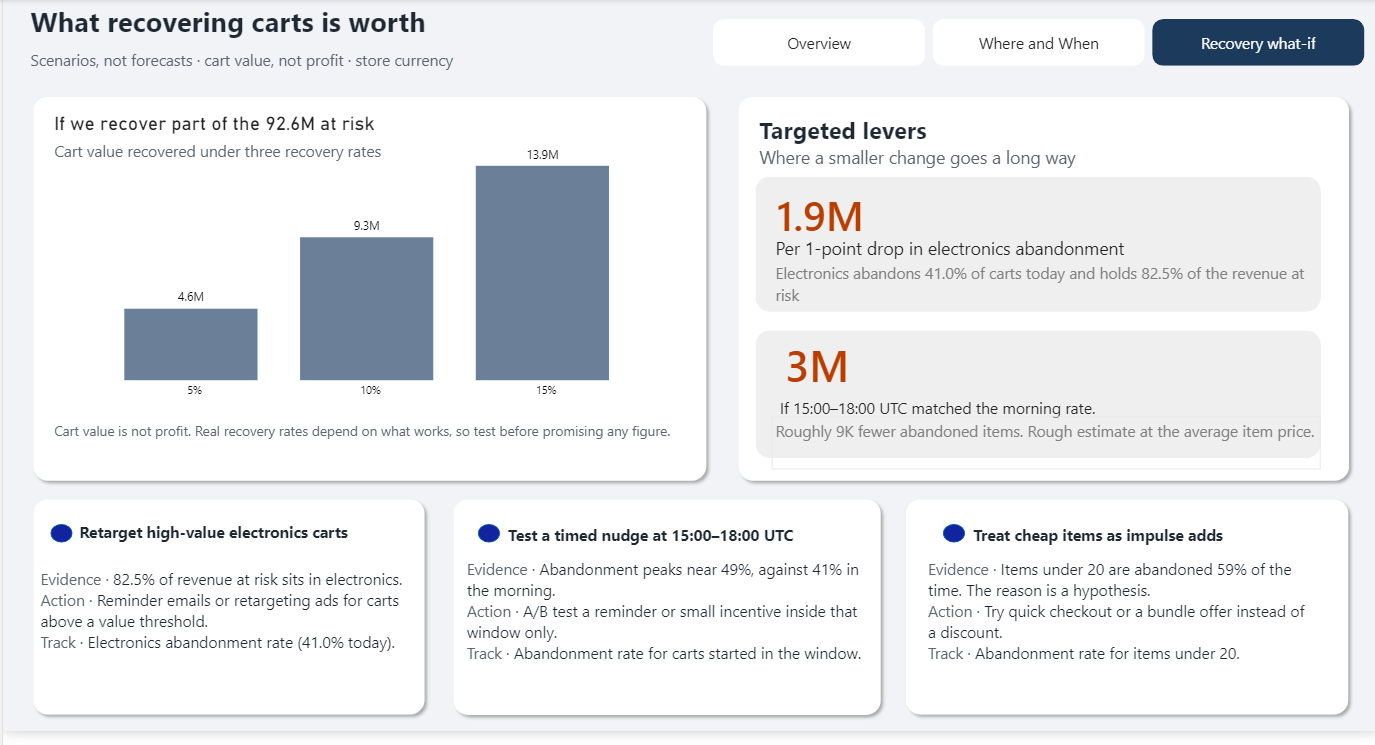

This screenshot's page, from the dashboard's own definition file:
{"tool":"powerbi","page":{"name":"Recovery what-if","canvas":[1880,1000],"ordinal":2},"visuals":[{"type":"pageNavigator","box":[970,28,892,64],"z":0},{"type":"textbox","box":[32,0,820,64],"z":1},{"type":"textbox","box":[32,64,820,44],"z":2},{"type":"shape","box":[32,126,938,502],"z":3},{"type":"shape","box":[996,126,852,502],"z":4},{"type":"shape","box":[32,650,554,318],"z":5},{"type":"shape","box":[606,650,602,318],"z":6},{"type":"shape","box":[1234,650,614,318],"z":7},{"type":"clusteredColumnChart","box":[100,100,300,300],"z":8}]}

Visuals, with their boxes in screenshot pixels (x1, y1, x2, y2), scaled from the page's 1880x1000 canvas onto the 1375x745 screenshot:
pageNavigator: detection(709, 21, 1362, 69)
textbox: detection(23, 0, 623, 48)
textbox: detection(23, 48, 623, 80)
shape: detection(23, 94, 709, 468)
shape: detection(728, 94, 1352, 468)
shape: detection(23, 484, 429, 721)
shape: detection(443, 484, 884, 721)
shape: detection(903, 484, 1352, 721)
clusteredColumnChart: detection(73, 74, 293, 298)
